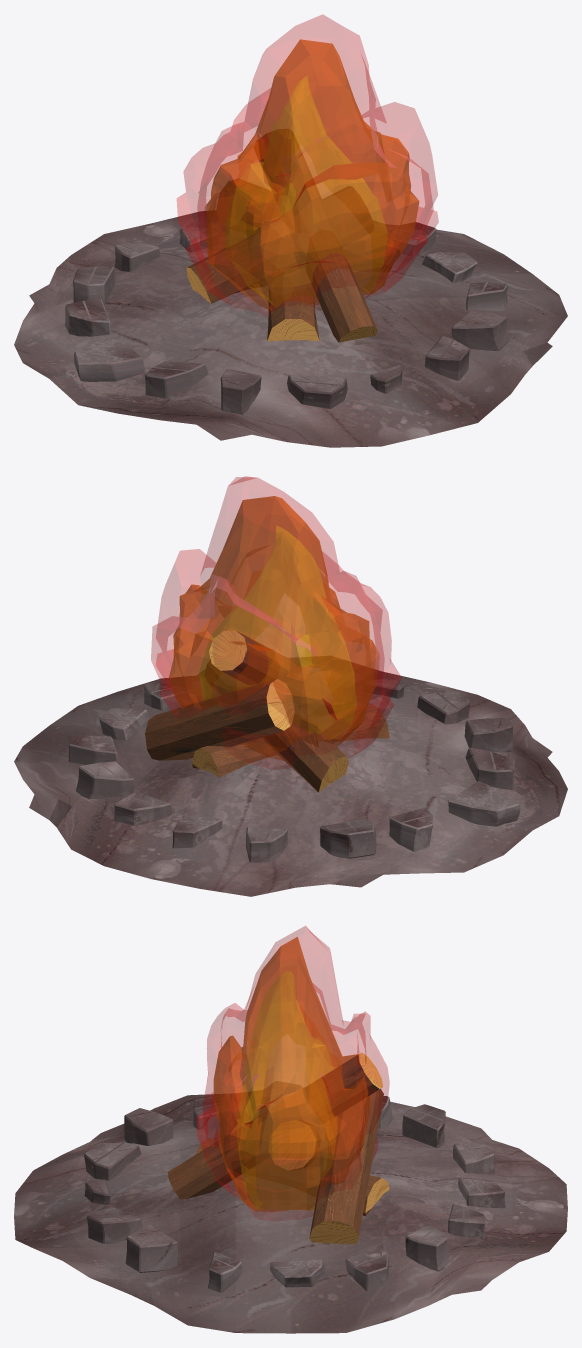
The model's file is campfire.fbx.
The picture shows the model from 3 angles, top to bottom: view 1: azimuth 30°, elevation 25°; view 2: azimuth 150°, elevation 25°; view 3: azimuth 270°, elevation 25°; orthographic projection.
Visible parts, largest first — view 1: polySurface7, polySurface5, polySurface3, polySurface4, polySurface6, polySurface8, polySurface26, polySurface22, polySurface9, polySurface12, polySurface23, polySurface25 (+10 smaller); view 2: polySurface7, polySurface5, polySurface3, polySurface4, polySurface9, polySurface6, polySurface8, polySurface26, polySurface22, polySurface20, polySurface16, polySurface23 (+10 smaller); view 3: polySurface7, polySurface5, polySurface3, polySurface4, polySurface6, polySurface9, polySurface8, polySurface12, polySurface26, polySurface25, polySurface24, polySurface16 (+11 smaller).
Boxes of the visible parts, x1,y1,x2,y2 form: polySurface7: (14, 211, 567, 447); polySurface5: (177, 14, 438, 315); polySurface3: (205, 39, 419, 310); polySurface4: (226, 76, 387, 306); polySurface6: (259, 132, 377, 342); polySurface8: (186, 186, 373, 303); polySurface26: (267, 267, 319, 341); polySurface22: (74, 336, 144, 381); polySurface9: (217, 179, 394, 271); polySurface12: (451, 309, 509, 350); polySurface23: (145, 361, 208, 398); polySurface25: (287, 375, 347, 408); polySurface7: (14, 656, 567, 896); polySurface5: (151, 476, 401, 769); polySurface3: (168, 496, 379, 760); polySurface4: (199, 526, 357, 739); polySurface9: (145, 679, 294, 760); polySurface6: (209, 630, 334, 717); polySurface8: (204, 660, 348, 792); polySurface26: (192, 703, 389, 777); polySurface22: (448, 781, 520, 826); polySurface20: (320, 819, 376, 858); polySurface16: (75, 761, 134, 799); polySurface23: (465, 747, 514, 789); polySurface7: (14, 1093, 567, 1333); polySurface5: (196, 926, 389, 1220); polySurface3: (213, 937, 369, 1211); polySurface4: (237, 971, 336, 1209); polySurface6: (167, 1052, 382, 1199); polySurface9: (309, 1088, 383, 1244); polySurface8: (268, 1119, 329, 1170); polySurface12: (125, 1224, 178, 1272); polySurface26: (195, 1138, 389, 1216); polySurface25: (84, 1142, 141, 1180); polySurface24: (124, 1108, 173, 1145); polySurface16: (405, 1224, 449, 1271).
Size of the model in its own units: 17.36 by 10.45 by 17.36.
Materials: 8 (4 with a texture image).
